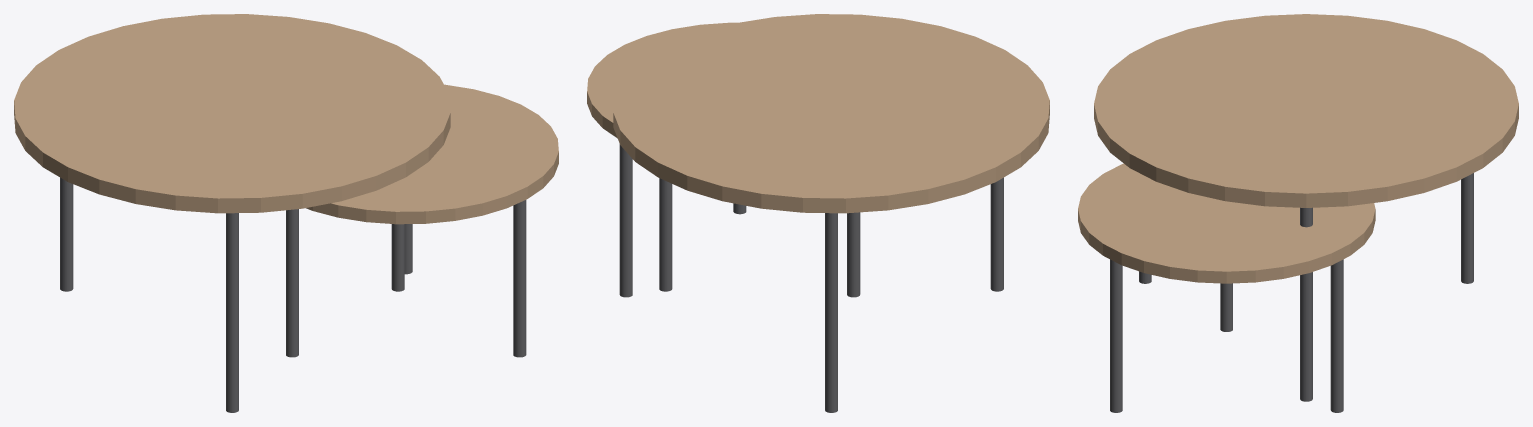
File: COFF-003.glb
3 views of the same model, side by side, from view 1: azimuth 30°, elevation 25°; view 2: azimuth 150°, elevation 25°; view 3: azimuth 270°, elevation 25° (orthographic). The views are drawn at different scales.
Visible parts, largest first — view 1: Cylinder, Cylinder.004, Cylinder.003, Cylinder.007, Cylinder.006, Cylinder.002, Cylinder.001; view 2: Cylinder, Cylinder.004, Cylinder.002, Cylinder.005, Cylinder.001, Cylinder.003, Cylinder.006; view 3: Cylinder, Cylinder.004, Cylinder.005, Cylinder.007, Cylinder.001, Cylinder.002, Cylinder.006.
Part boxes in pixels (x1=…): Cylinder: x1=14, y1=14, x2=450, y2=213; Cylinder.004: x1=306, y1=84, x2=558, y2=224; Cylinder.003: x1=226, y1=213, x2=238, y2=412; Cylinder.007: x1=513, y1=200, x2=526, y2=357; Cylinder.006: x1=286, y1=209, x2=298, y2=357; Cylinder.002: x1=60, y1=177, x2=73, y2=291; Cylinder.001: x1=391, y1=224, x2=404, y2=291; Cylinder: x1=613, y1=14, x2=1049, y2=213; Cylinder.004: x1=587, y1=22, x2=737, y2=138; Cylinder.002: x1=825, y1=213, x2=837, y2=412; Cylinder.005: x1=619, y1=144, x2=632, y2=297; Cylinder.001: x1=659, y1=178, x2=672, y2=291; Cylinder.003: x1=990, y1=177, x2=1003, y2=291; Cylinder.006: x1=847, y1=212, x2=860, y2=297; Cylinder: x1=1094, y1=14, x2=1518, y2=207; Cylinder.004: x1=1078, y1=163, x2=1375, y2=283; Cylinder.005: x1=1330, y1=259, x2=1343, y2=412; Cylinder.007: x1=1110, y1=259, x2=1122, y2=412; Cylinder.001: x1=1300, y1=207, x2=1312, y2=401; Cylinder.002: x1=1461, y1=173, x2=1473, y2=283; Cylinder.006: x1=1220, y1=283, x2=1232, y2=331.
Size of the model in its own units: 0.96 by 0.45 by 0.83.
